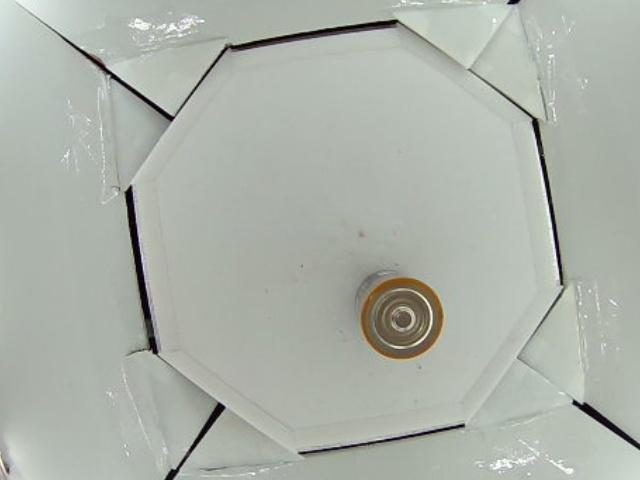Battery: (355, 272, 443, 355)
